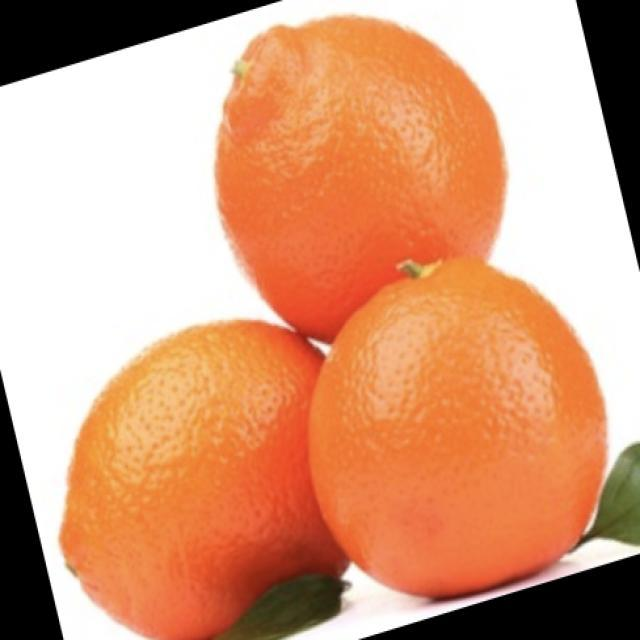matang: (309, 262, 606, 596), (216, 18, 506, 339), (60, 320, 347, 639)
